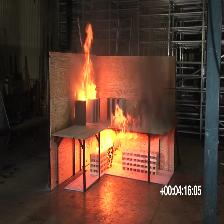fire: (101, 104, 139, 164), (78, 24, 97, 100)
